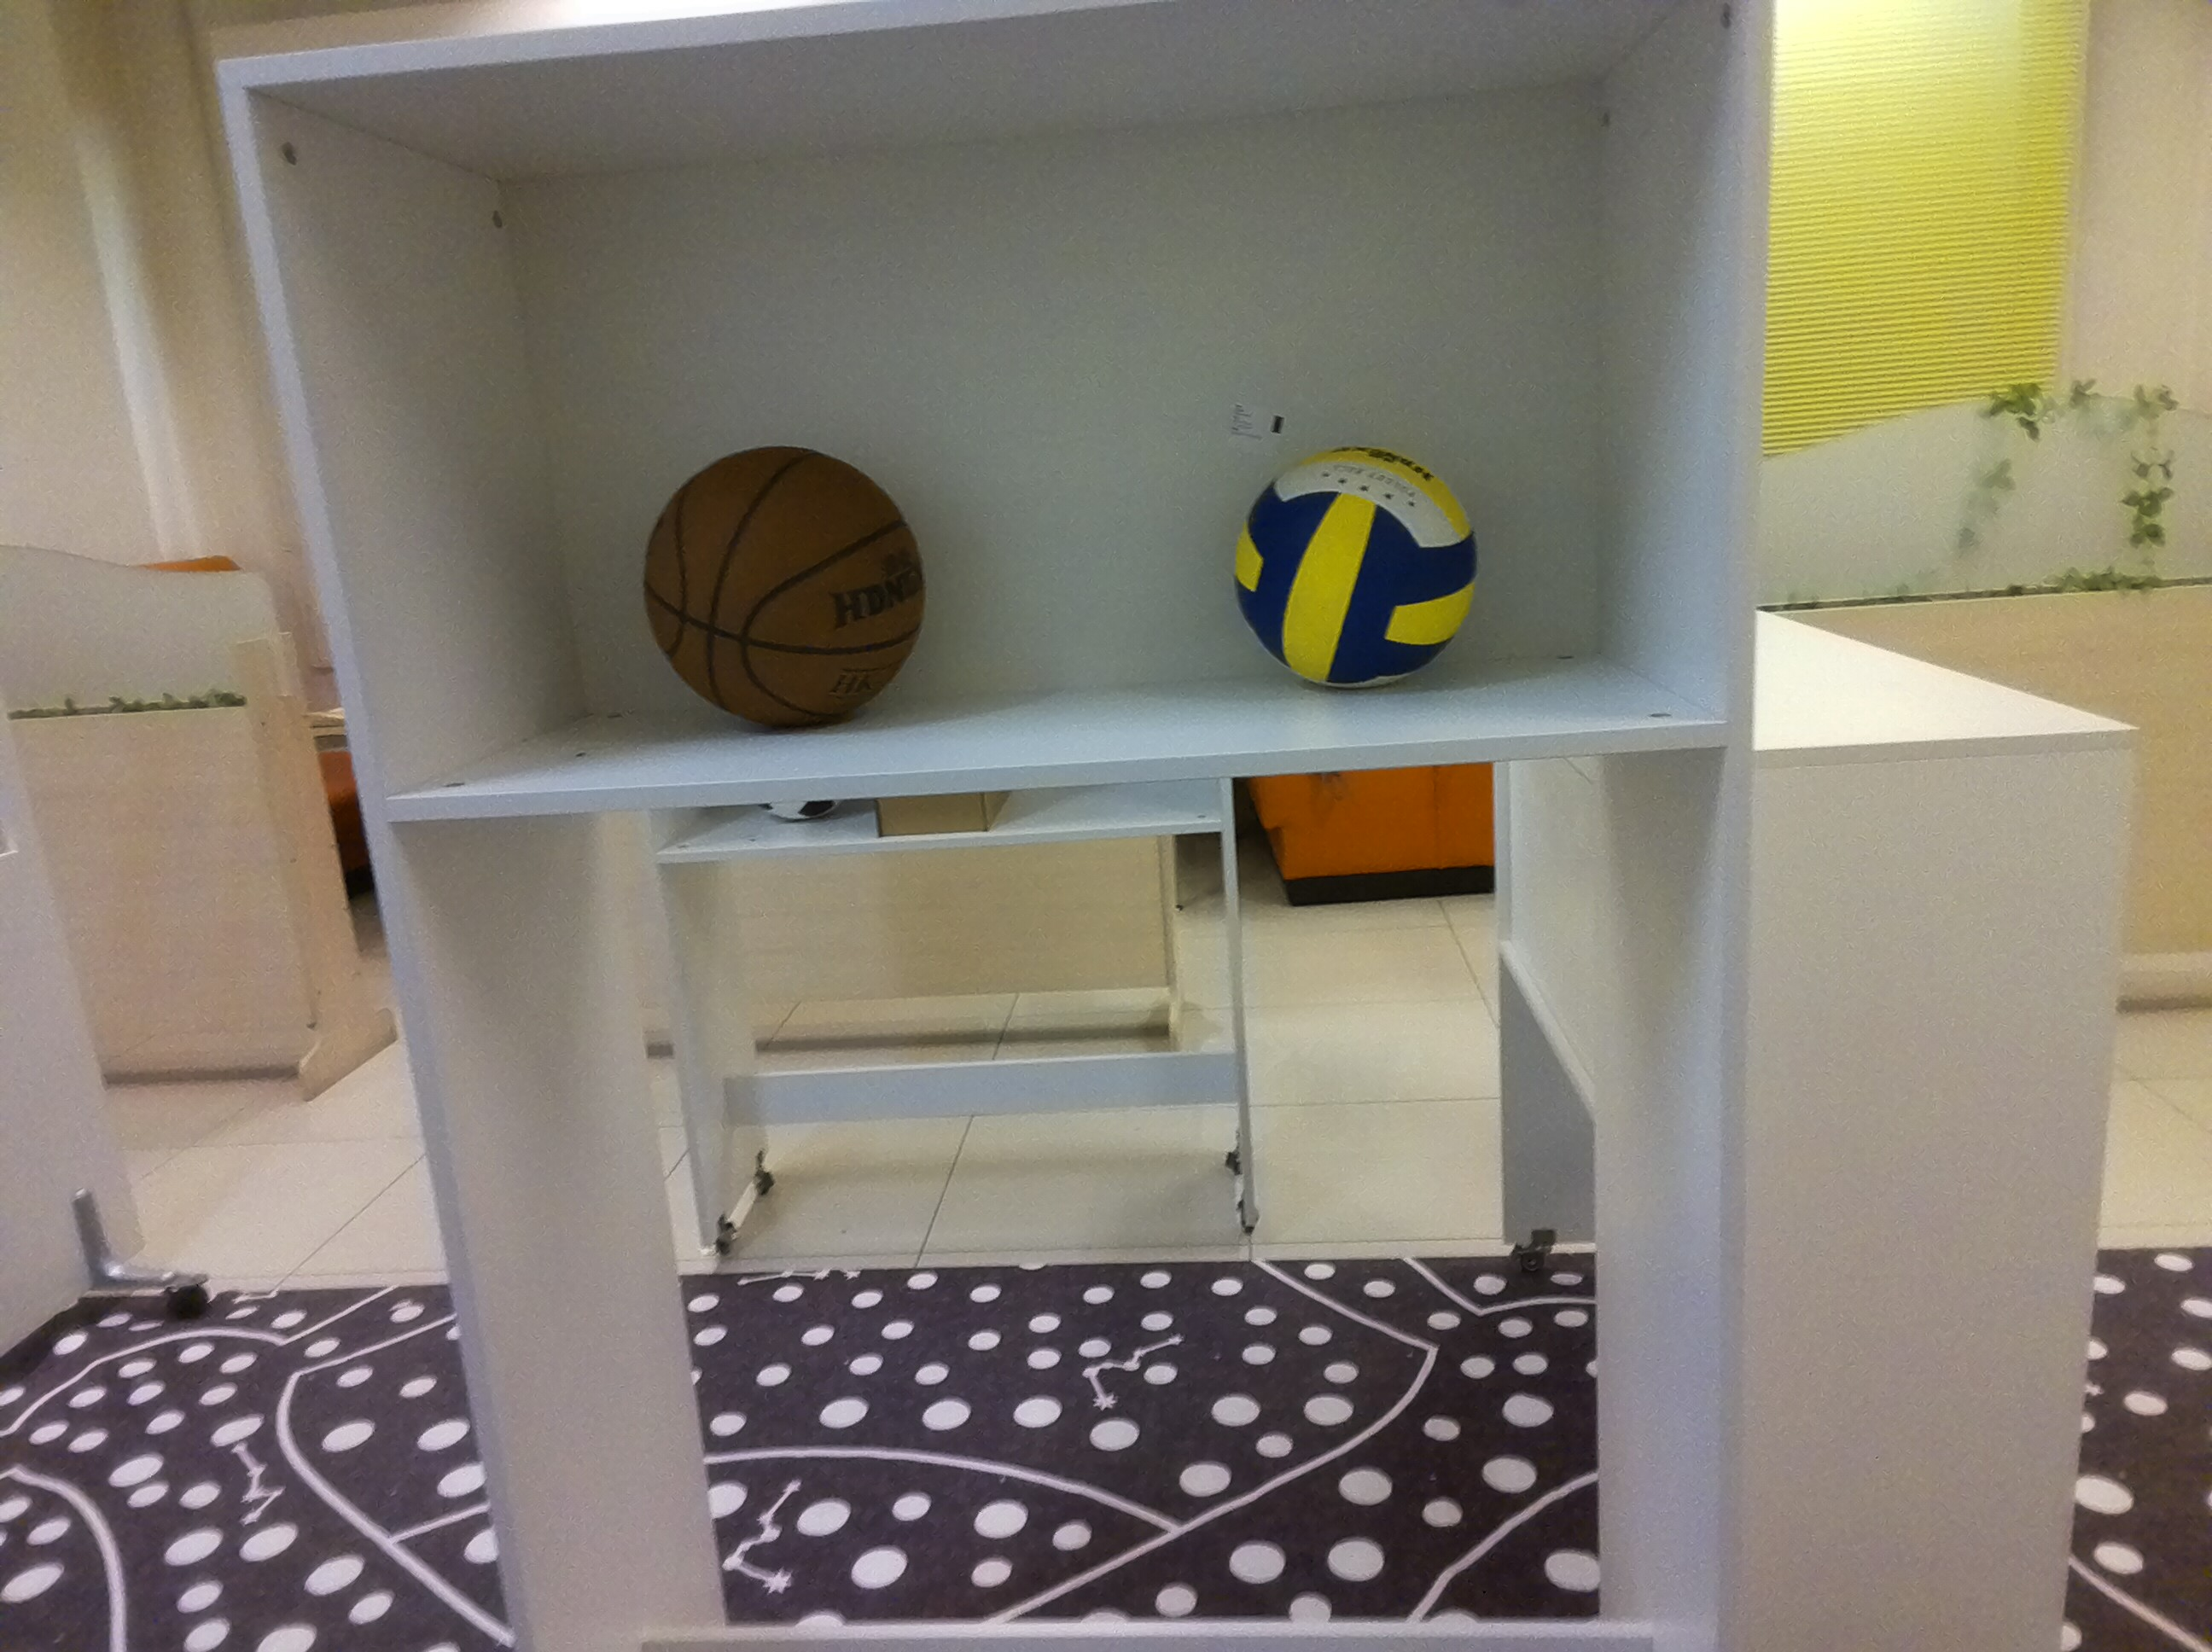basketball: (644, 442, 939, 729)
volleyball: (1225, 432, 1482, 699)
